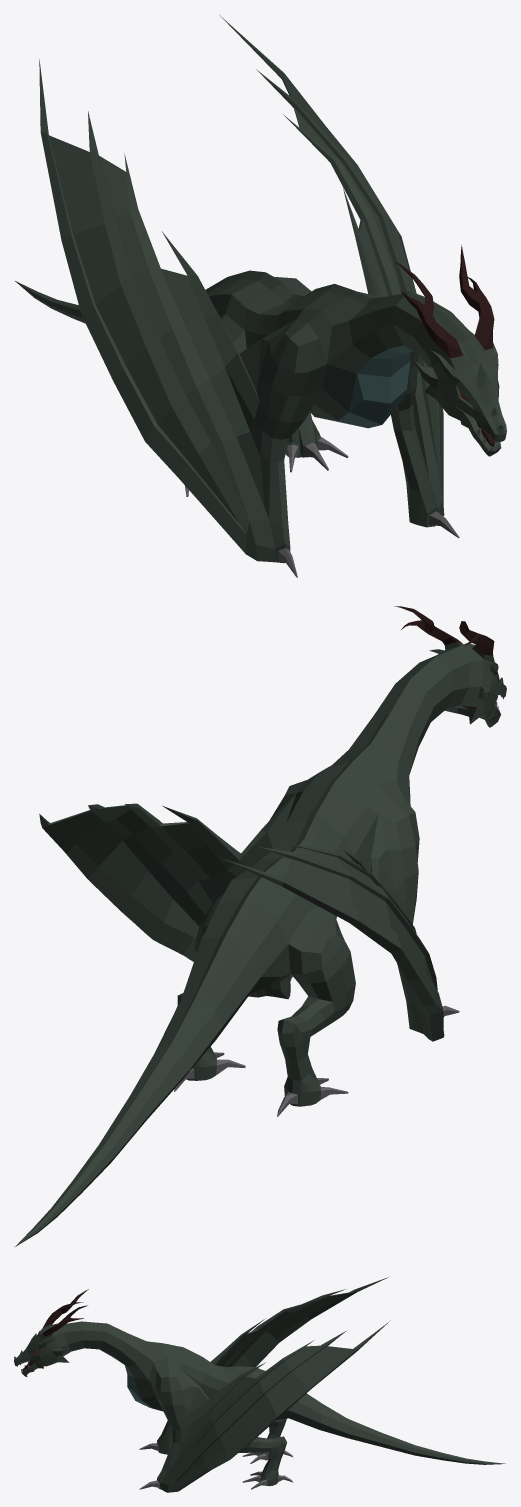
Rendered from enemy_wyvern.fbx.
3 renders of one model, top to bottom at view 1: azimuth 30°, elevation 25°; view 2: azimuth 150°, elevation 25°; view 3: azimuth 270°, elevation 25°, orthographic. The views are drawn at different scales.
Visible parts, largest first — view 1: enemy_wyvern; view 2: enemy_wyvern; view 3: enemy_wyvern.
Boxes of the visible parts, x1,y1,x2,y2 form: enemy_wyvern: (15, 15, 506, 577); enemy_wyvern: (14, 606, 506, 1247); enemy_wyvern: (14, 1277, 505, 1492).
Size of the model in its own units: 2.4 by 2.45 by 6.35.
